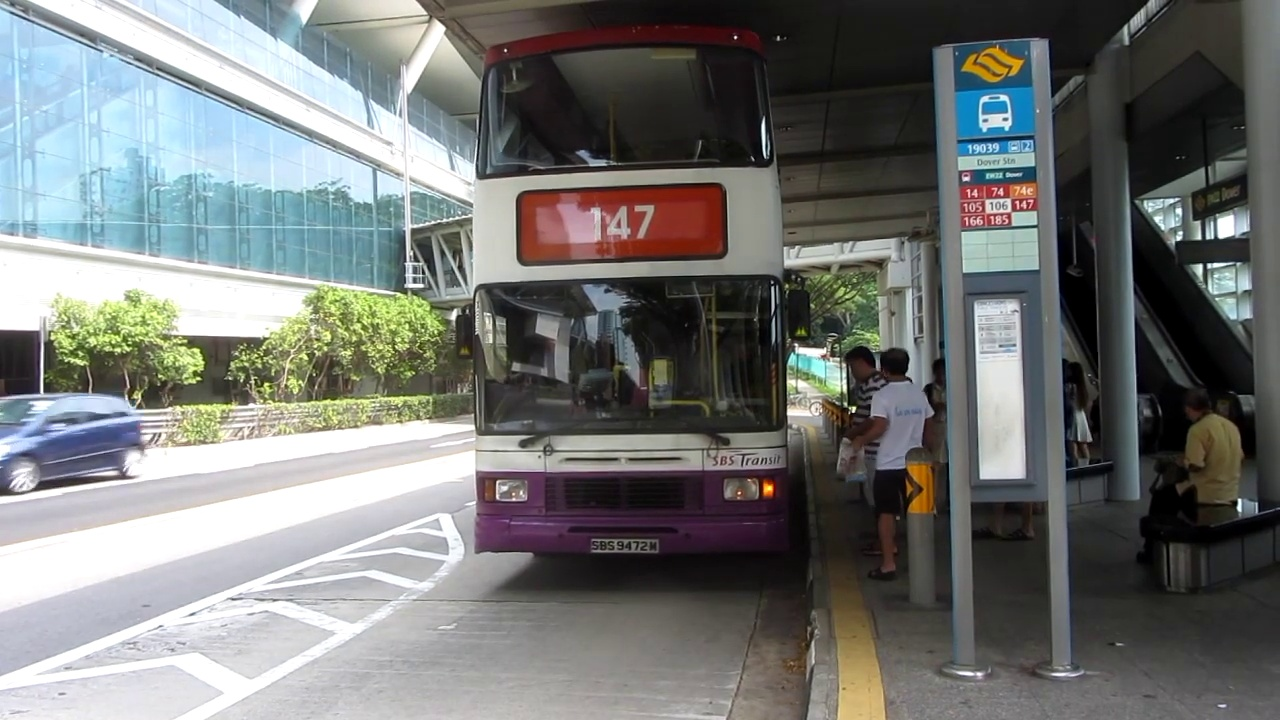bus panel: (512, 181, 732, 269)
